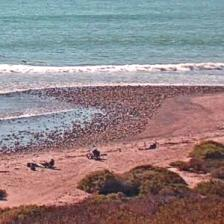surfer: (0, 54, 8, 59), (22, 60, 26, 64)
